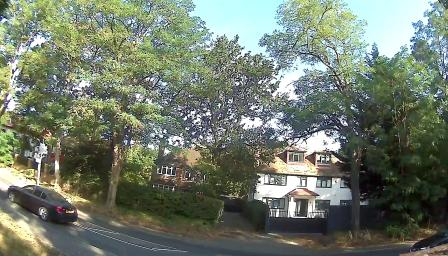Cars: (5, 176, 76, 227)
